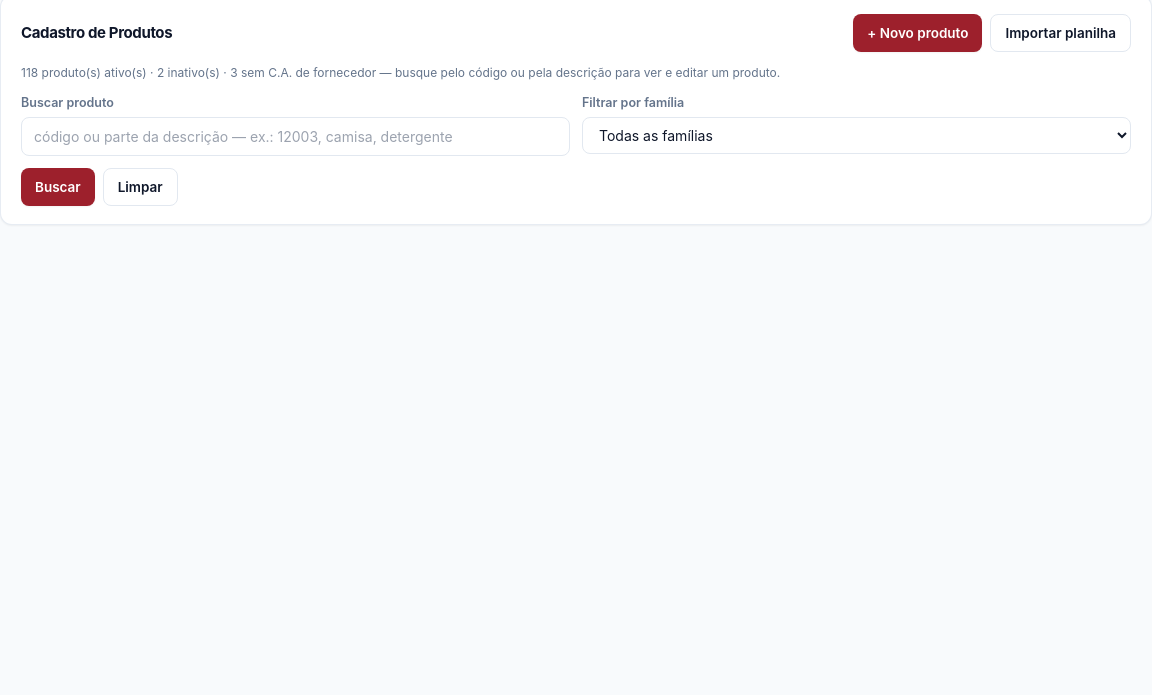
it: <Produtos /> › a grade de tamanhos cadastra um produto por tamanho, de uma vez
Click the button "+ Novo produto". click: [918, 33]
box: [853, 14, 982, 52]
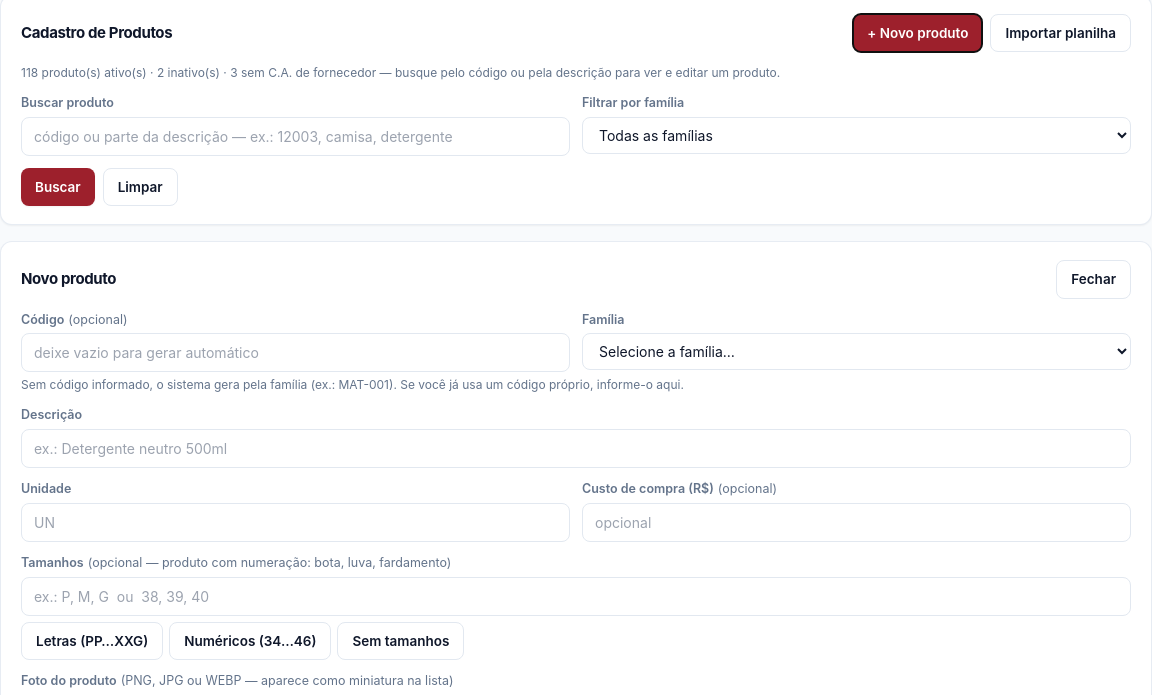
Type "12003" into the field labelled "Código(opcional)". click: [296, 353]
box: [21, 333, 570, 372]
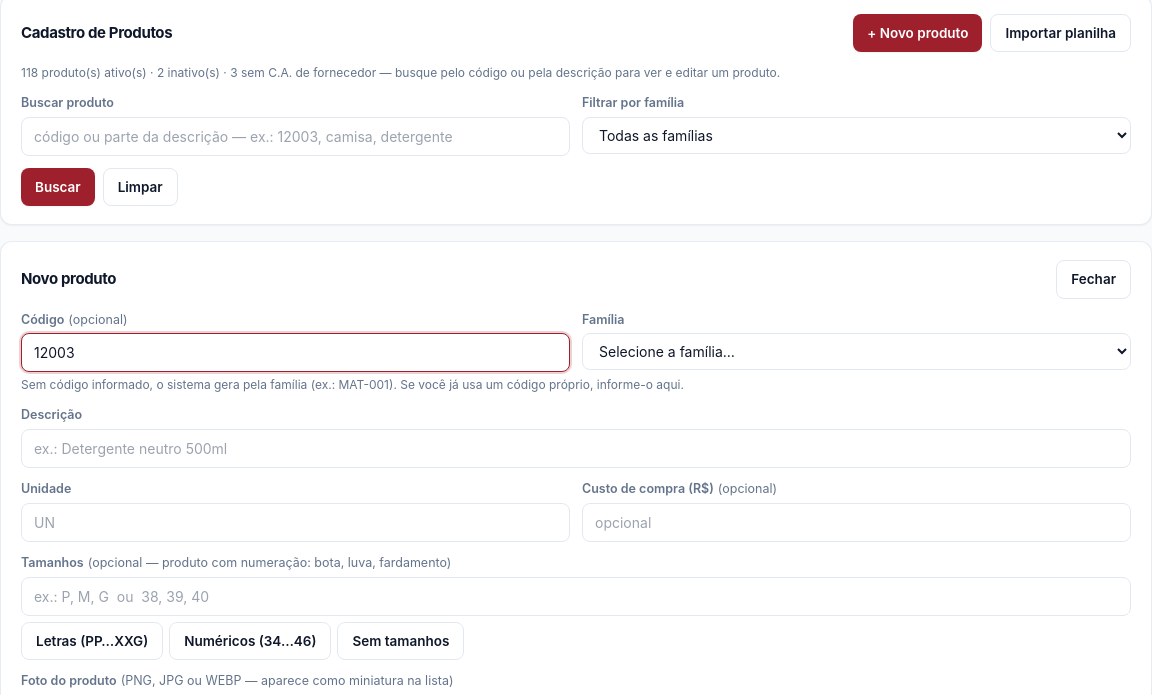
Type "Bota de segurança" into the field labelled "Descrição". click: [576, 448]
box: [21, 429, 1131, 468]
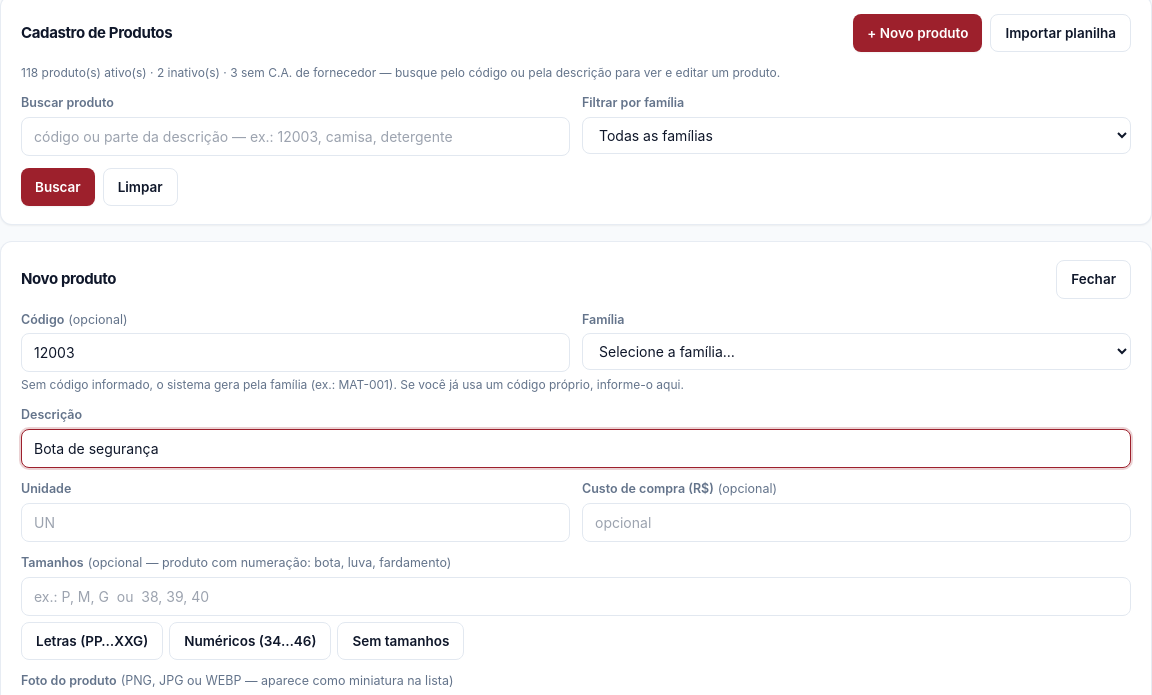
Select "EPI" in the dropdown labelled "Família". click: [856, 352]
box: [582, 333, 1131, 370]
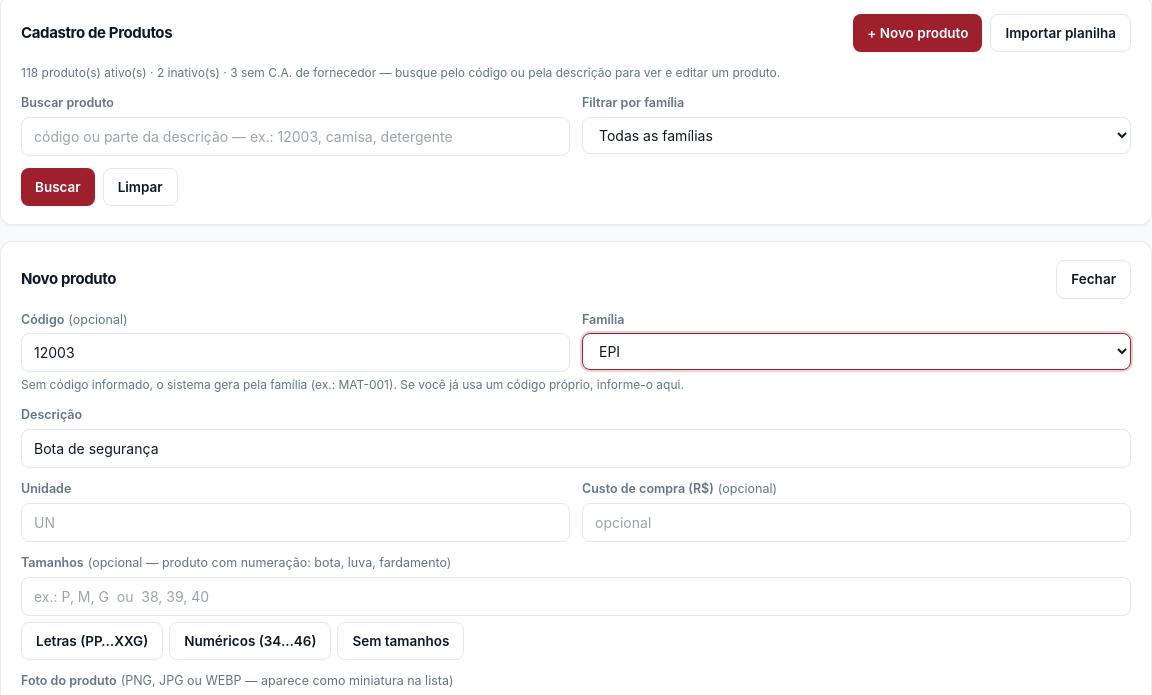
Type "38, 39, 40" into the field labelled "Tamanhos". click: [576, 596]
box: [21, 576, 1131, 616]
(page scrolled)
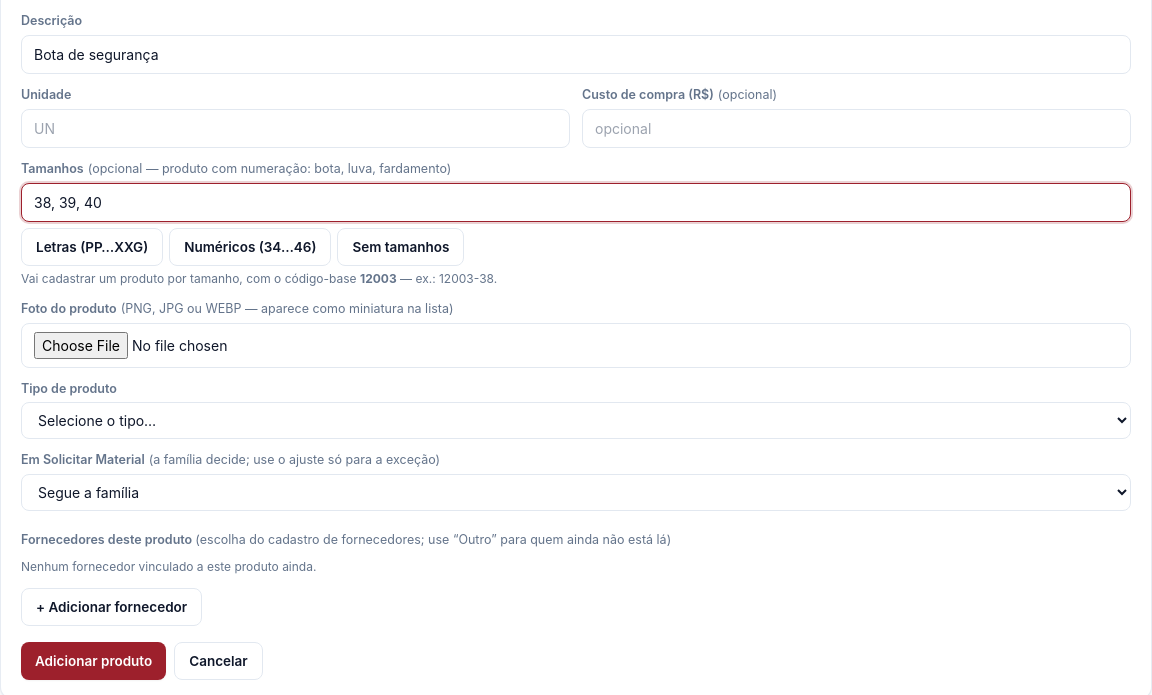
Check: the text "12003-38" is shown, box [21, 271, 497, 286]
Click the button "Adicionar produto". click: [94, 661]
box: [21, 642, 166, 680]
(page scrolled)
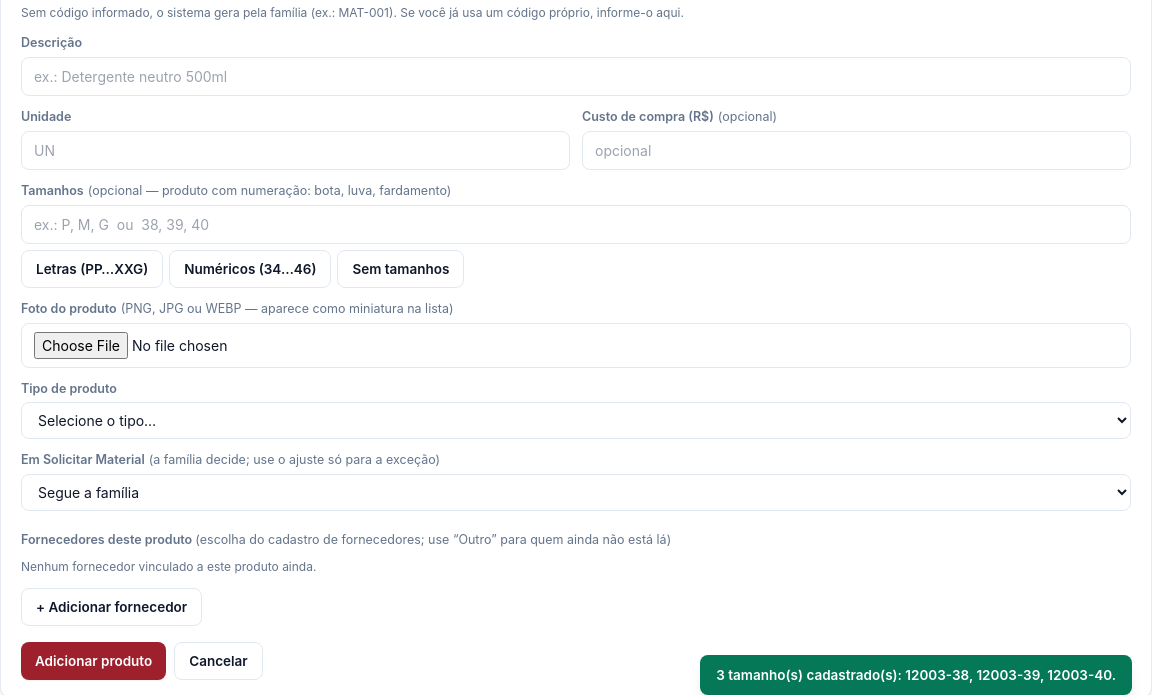
Check: the message with test id "toast" shows "3 tamanho(s) cadastrado(s)", box [716, 667, 1116, 683]
